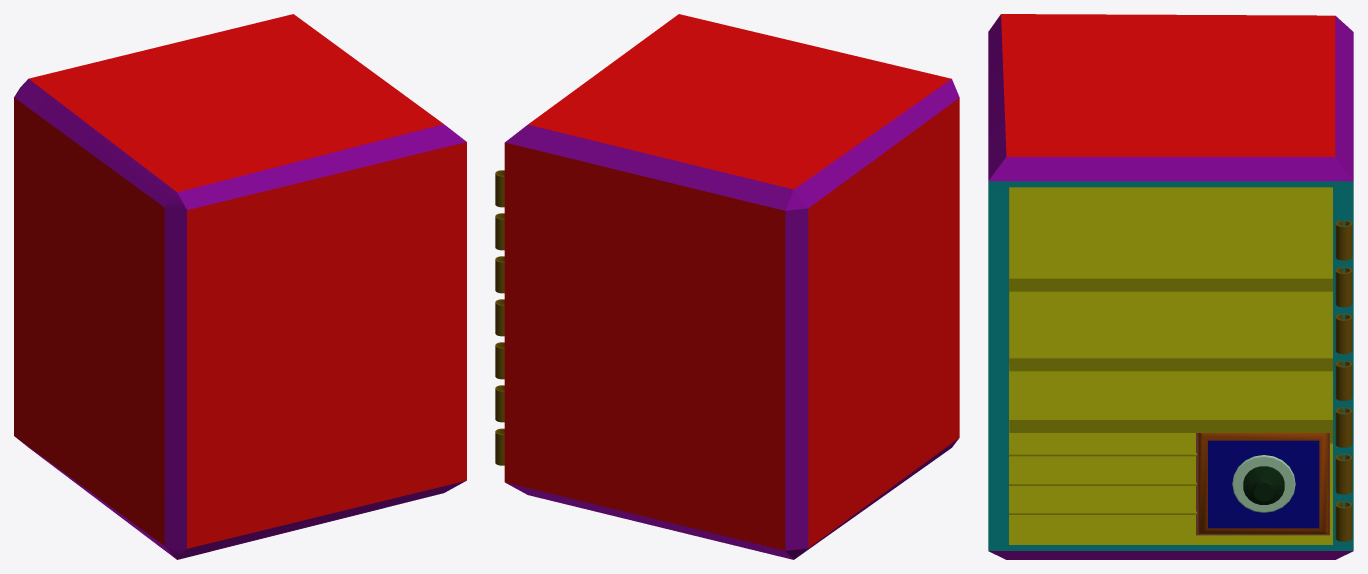
Rendered from SM_coffre.fbx.
3 renders of one model, left to right at view 1: azimuth 30°, elevation 25°; view 2: azimuth 150°, elevation 25°; view 3: azimuth 270°, elevation 25°, orthographic. The views are drawn at different scales.
Visible parts, largest first — view 1: coffre_sansboutton:pCube6Shape; view 2: coffre_sansboutton:pCube6Shape; view 3: coffre_sansboutton:pCube6Shape.
Boxes of the visible parts, x1,y1,x2,y2 form: coffre_sansboutton:pCube6Shape: [14, 14, 466, 559]; coffre_sansboutton:pCube6Shape: [495, 14, 959, 559]; coffre_sansboutton:pCube6Shape: [988, 14, 1353, 559].
Size of the model in its own units: 87.11 by 100 by 82.19.
